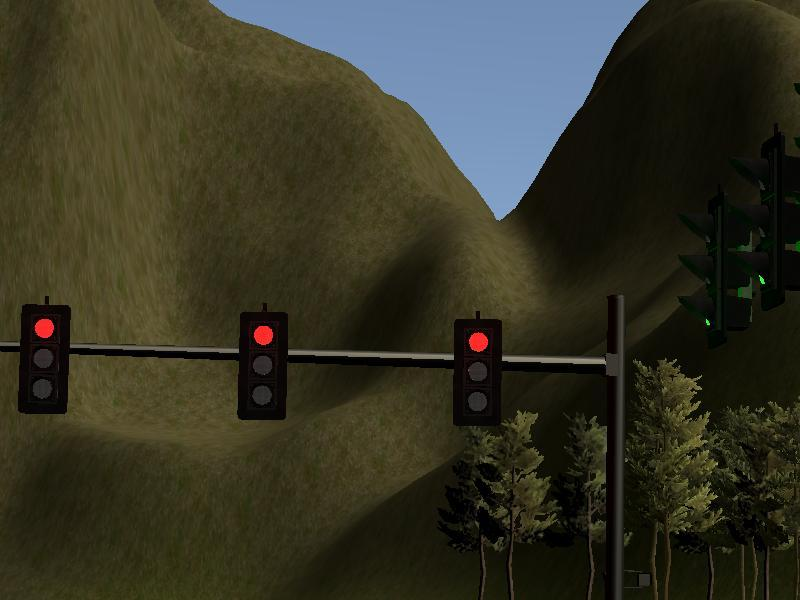Red: (454, 317, 503, 426), (237, 311, 286, 420), (19, 304, 68, 413)
